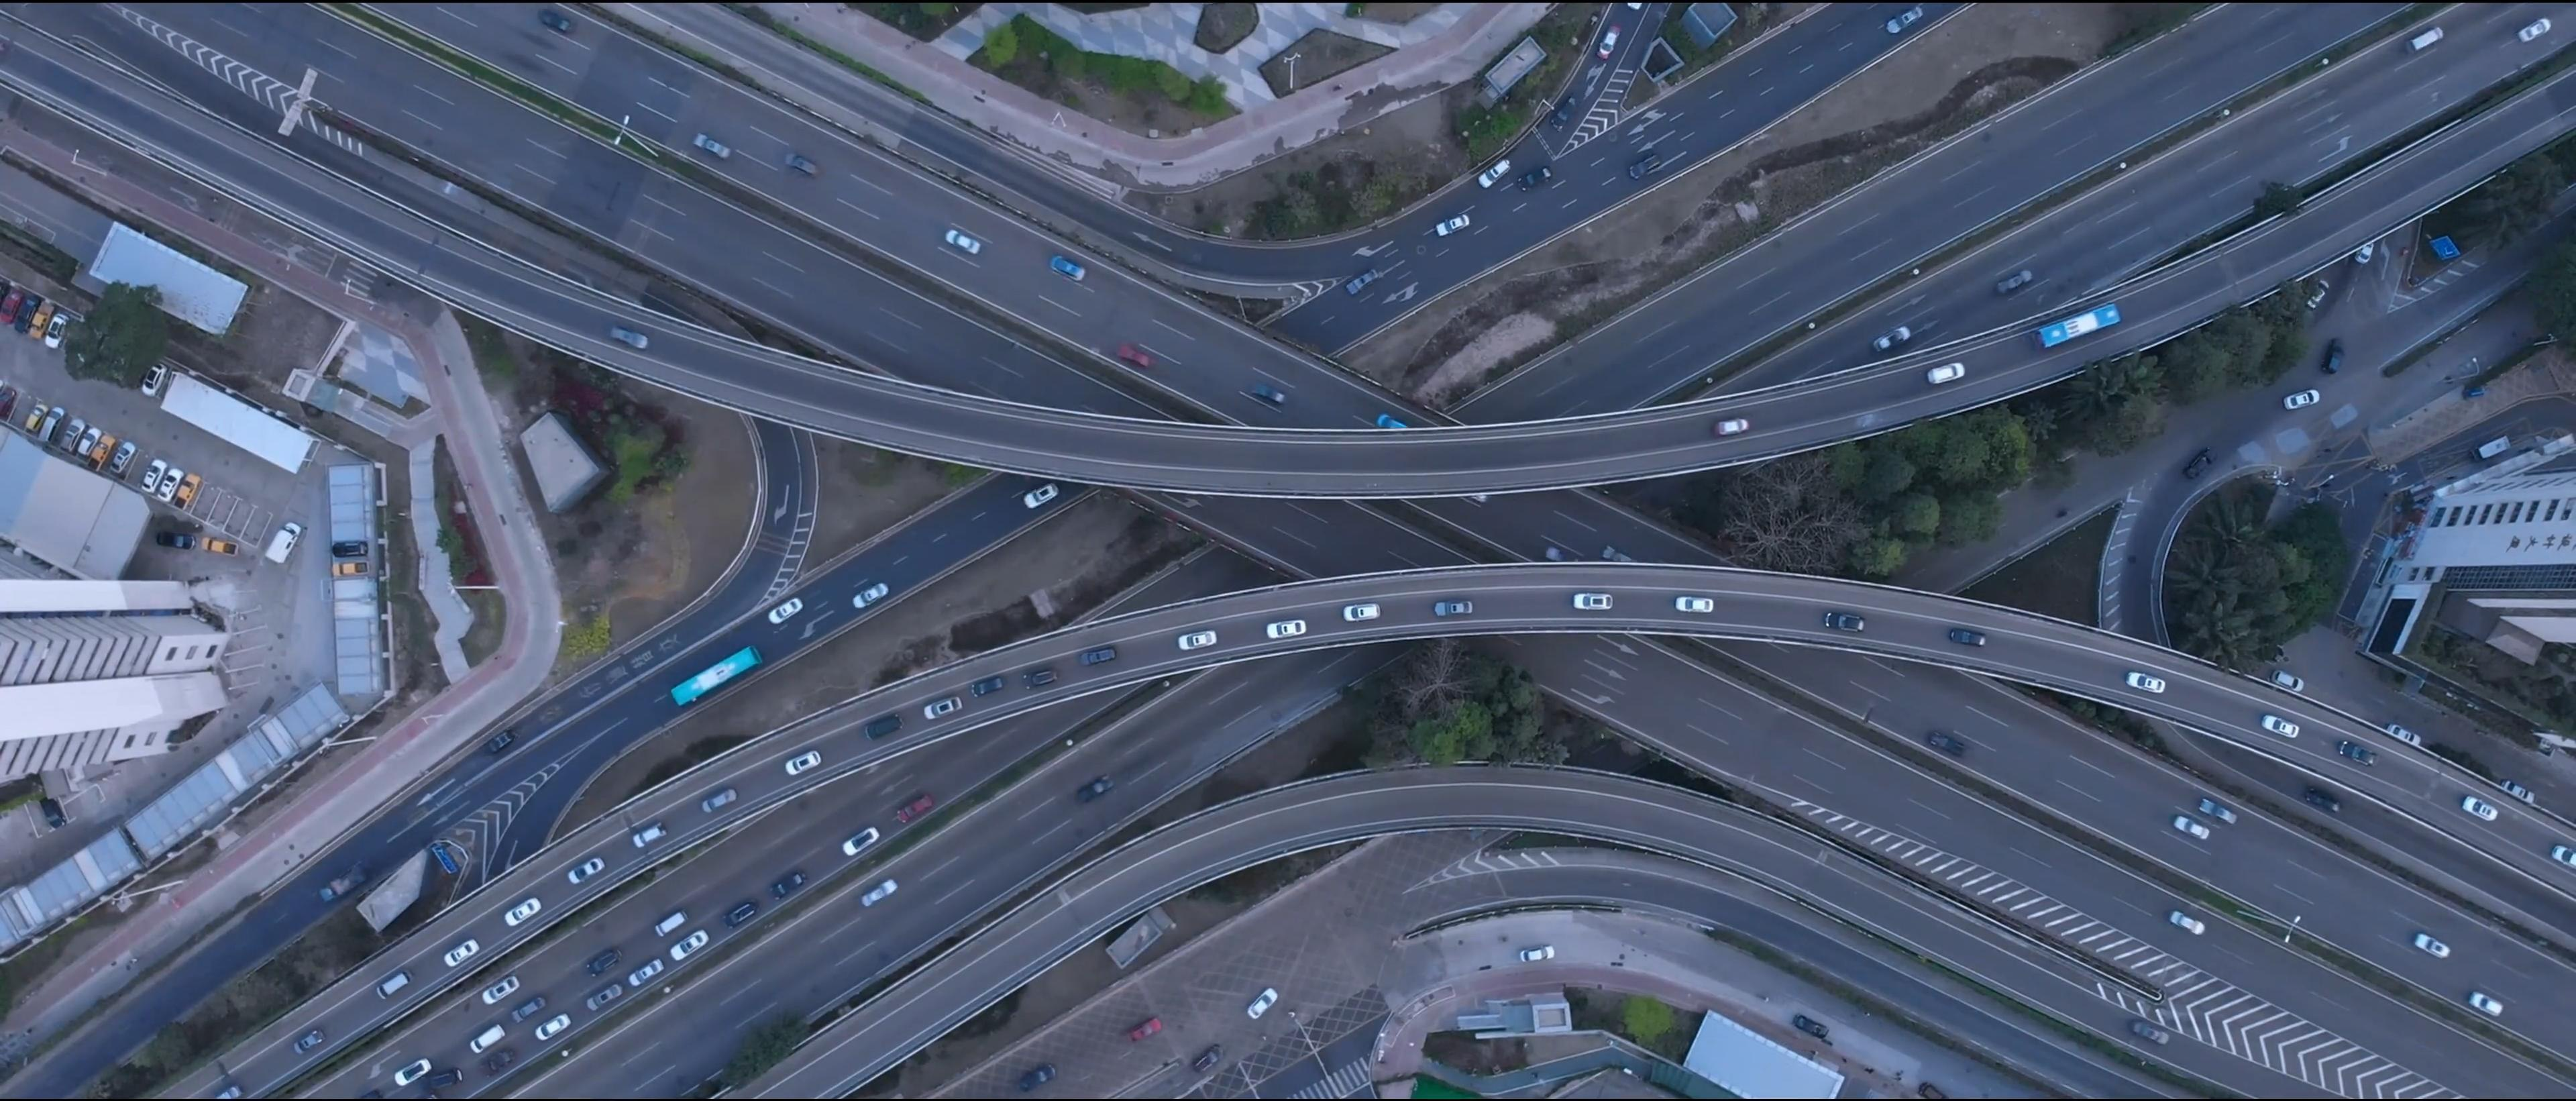Vehicle: (669, 646, 764, 707), (2032, 301, 2121, 353), (319, 863, 370, 902), (263, 521, 302, 564), (669, 928, 710, 963), (859, 878, 899, 910), (841, 827, 881, 859), (85, 432, 117, 472), (769, 871, 808, 902), (897, 794, 936, 825), (1884, 7, 1925, 36), (862, 713, 905, 741), (1245, 986, 1280, 1020), (628, 958, 665, 989), (503, 896, 542, 925), (721, 899, 761, 928), (1594, 21, 1623, 61), (2129, 1019, 2170, 1047), (693, 130, 731, 159), (394, 1057, 432, 1086), (478, 1048, 516, 1078), (585, 950, 623, 979), (1076, 772, 1114, 802), (2461, 794, 2499, 823), (567, 856, 606, 884), (2338, 739, 2379, 766), (2183, 447, 2216, 480), (376, 970, 412, 999), (444, 938, 480, 968), (1475, 159, 1511, 189), (38, 406, 66, 444), (158, 467, 186, 504), (172, 472, 200, 509), (483, 976, 521, 1004), (509, 996, 547, 1024), (1019, 1065, 1056, 1093), (1996, 268, 2034, 296), (2468, 989, 2505, 1017), (2413, 932, 2451, 960), (784, 749, 823, 776), (923, 695, 963, 721), (2167, 909, 2206, 935), (2320, 337, 2346, 376), (1551, 95, 1580, 130), (2261, 713, 2302, 738), (140, 362, 168, 398), (140, 458, 168, 495), (701, 787, 738, 815), (468, 1024, 504, 1052), (534, 1014, 570, 1042), (654, 909, 690, 937), (28, 301, 54, 339), (586, 984, 624, 1011), (1515, 164, 1552, 191), (2499, 779, 2537, 805), (1176, 629, 1219, 652), (1265, 618, 1308, 641), (943, 230, 982, 255), (15, 294, 39, 334), (44, 311, 69, 350), (1193, 1043, 1226, 1073), (2196, 799, 2236, 823), (1927, 731, 1966, 756), (2471, 435, 2510, 460), (769, 597, 803, 624), (1050, 255, 1086, 281), (1023, 481, 1060, 508), (61, 417, 87, 454), (853, 582, 889, 608), (419, 1068, 463, 1089), (1342, 601, 1383, 624), (1925, 362, 1966, 385), (2124, 670, 2165, 693), (1125, 1017, 1163, 1042), (1873, 327, 1911, 352), (2305, 787, 2343, 812), (1571, 590, 1613, 611), (784, 151, 818, 177), (39, 795, 66, 830), (292, 1029, 327, 1055), (1628, 153, 1663, 179), (2282, 388, 2321, 411), (539, 7, 575, 31), (1792, 1014, 1828, 1039), (2173, 815, 2210, 840), (1674, 593, 1715, 615), (1824, 611, 1865, 633), (110, 440, 136, 473), (634, 822, 667, 848), (1345, 269, 1378, 296), (1117, 343, 1153, 366), (1022, 669, 1058, 692), (1948, 626, 1986, 647), (1436, 214, 1470, 237), (77, 427, 103, 457), (156, 531, 195, 550), (0, 288, 21, 324), (1252, 383, 1288, 404), (1433, 600, 1475, 618), (2270, 669, 2303, 692), (200, 537, 238, 557), (1713, 417, 1751, 437), (2387, 723, 2422, 744), (25, 403, 49, 432), (2305, 279, 2328, 311), (971, 677, 1007, 697), (483, 731, 516, 753), (332, 541, 370, 559), (1078, 647, 1115, 666), (1544, 546, 1582, 564), (1518, 943, 1556, 961), (330, 560, 371, 577), (2551, 845, 2576, 868), (1919, 1081, 1947, 1101), (1375, 414, 1408, 431), (2354, 242, 2376, 265), (214, 1085, 243, 1101), (0, 386, 15, 417), (1602, 546, 1633, 560)
